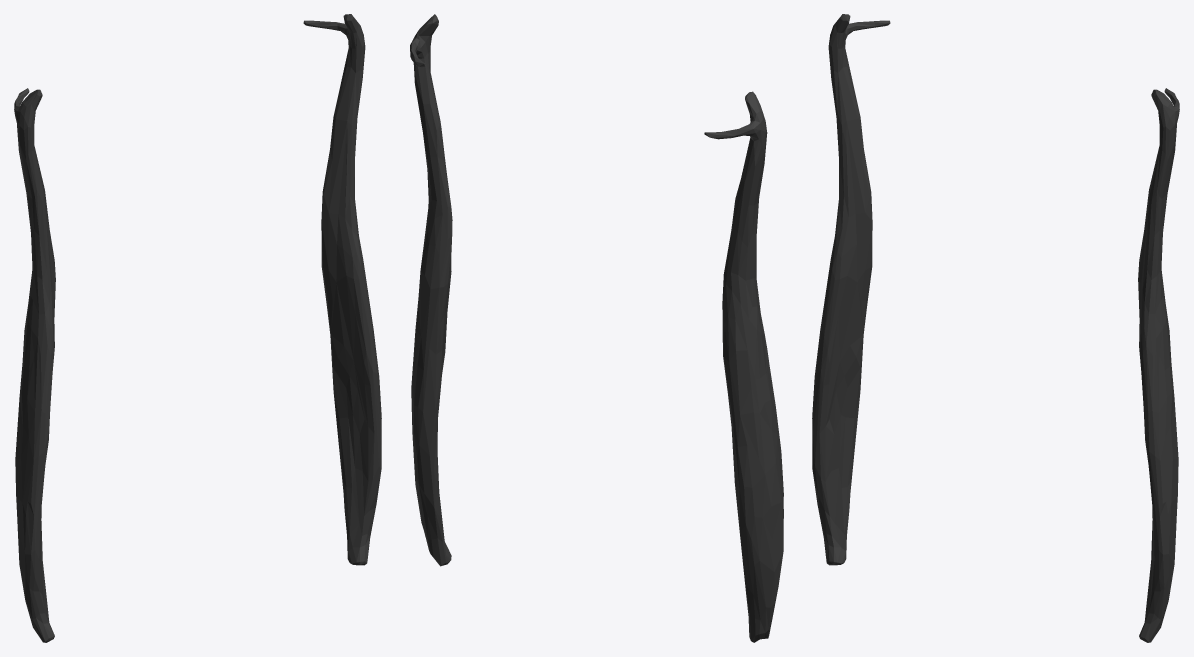
File: m_extensor_carpi_ulnaris.glb
3 views of the same model, side by side, from view 1: azimuth 30°, elevation 25°; view 2: azimuth 150°, elevation 25°; view 3: azimuth 330°, elevation 25° (orthographic).
Visible parts, largest first — view 1: m_extensor_carpi_ulnaris; view 2: m_extensor_carpi_ulnaris; view 3: m_extensor_carpi_ulnaris.
Boxes of the visible parts, left/top/right/bottom form: m_extensor_carpi_ulnaris: left=14, top=14, right=381, bottom=642; m_extensor_carpi_ulnaris: left=410, top=14, right=783, bottom=642; m_extensor_carpi_ulnaris: left=812, top=14, right=1179, bottom=642.
Bounding box in the file's own units: 0.00453 × 0.00661 × 0.000941.
Materials: 1 (1 with a texture image).
